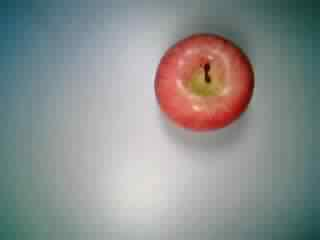apple: (153, 32, 257, 136)
